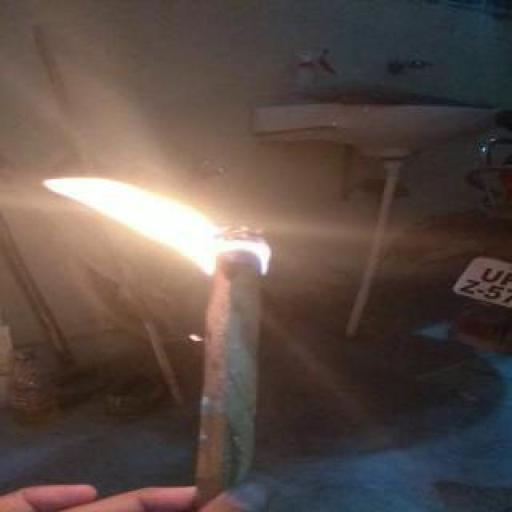smoke: (22, 154, 269, 278)
